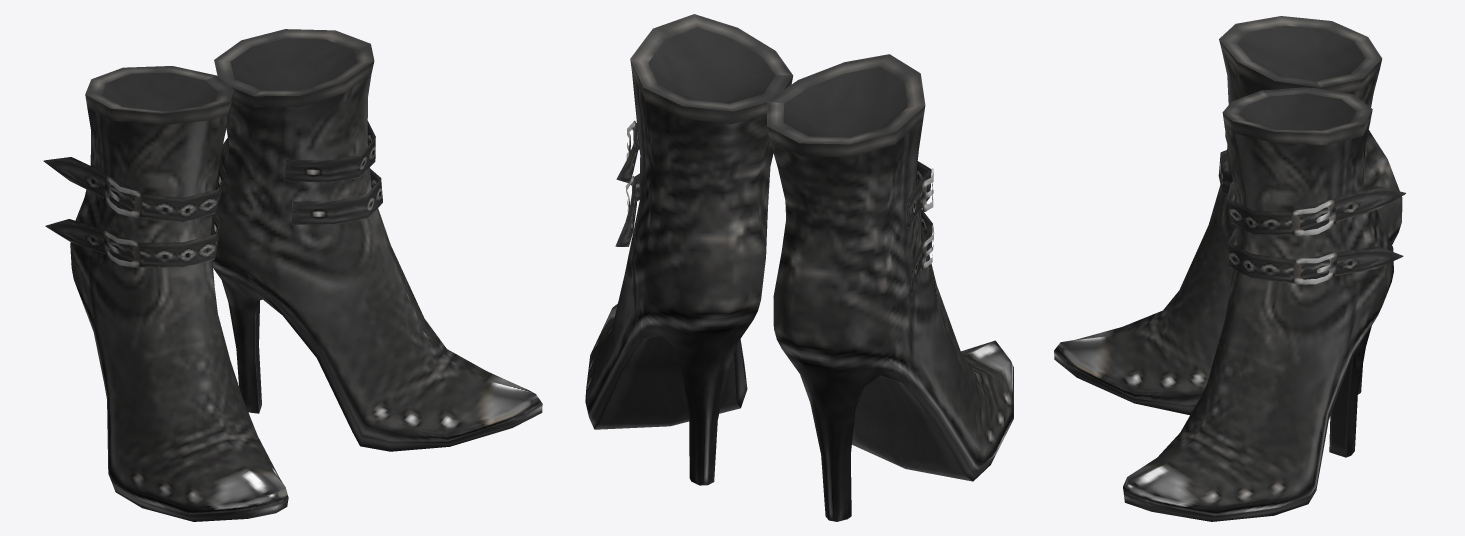
File: Stiletto_Ankle_Ground.fbx
3 views of the same model, side by side, from view 1: azimuth 30°, elevation 25°; view 2: azimuth 150°, elevation 25°; view 3: azimuth 270°, elevation 25° (orthographic). The views are drawn at different scales.
Parts seen in each view (by area): view 1: Stiletto_Ankle; view 2: Stiletto_Ankle; view 3: Stiletto_Ankle.
Boxes of the visible parts, <box> form: Stiletto_Ankle: <box>43,29,542,521</box>; Stiletto_Ankle: <box>585,14,1013,521</box>; Stiletto_Ankle: <box>1054,16,1405,521</box>.
Size of the model in its own units: 0.171 by 0.1565 by 0.155.
